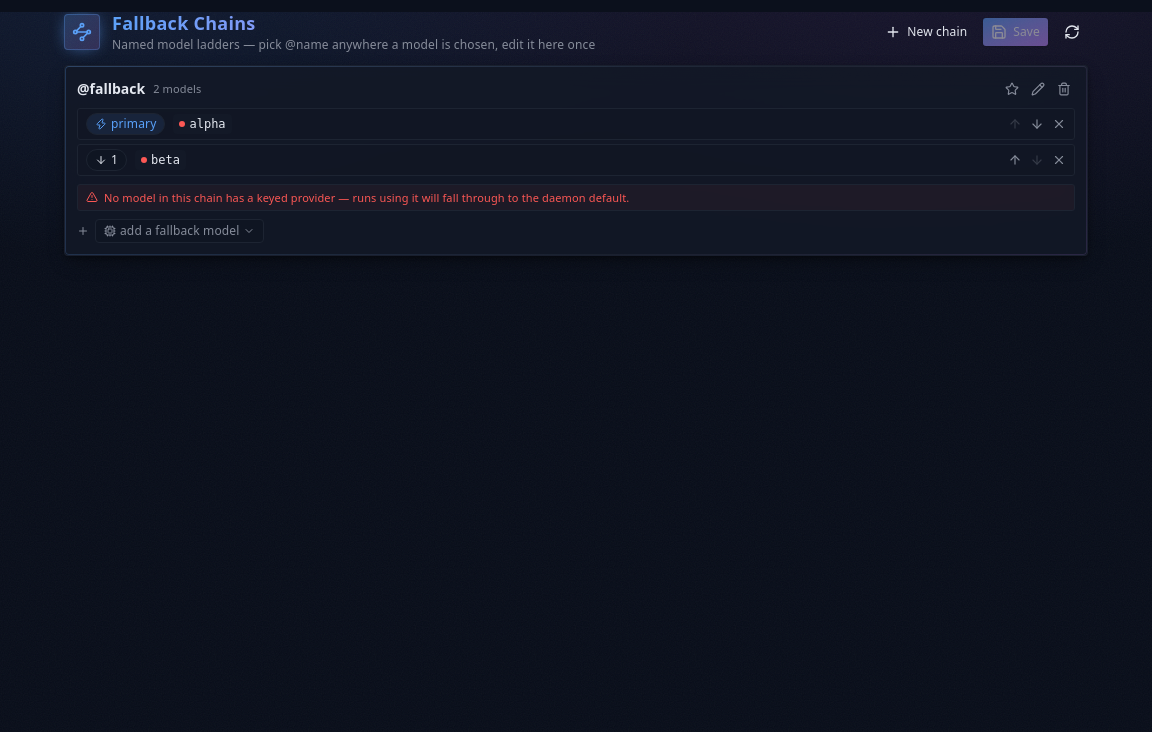
Scenario: Chains view › posts the whole chain set on save, then goes clean again
The width and height of the screenshot is (1152, 732).
Expected: the button titled "Save chains" is shown, [983, 18, 1048, 46]
Click the button titled "Move down" in the row of "primary" at (1037, 124), box [1030, 116, 1044, 130]
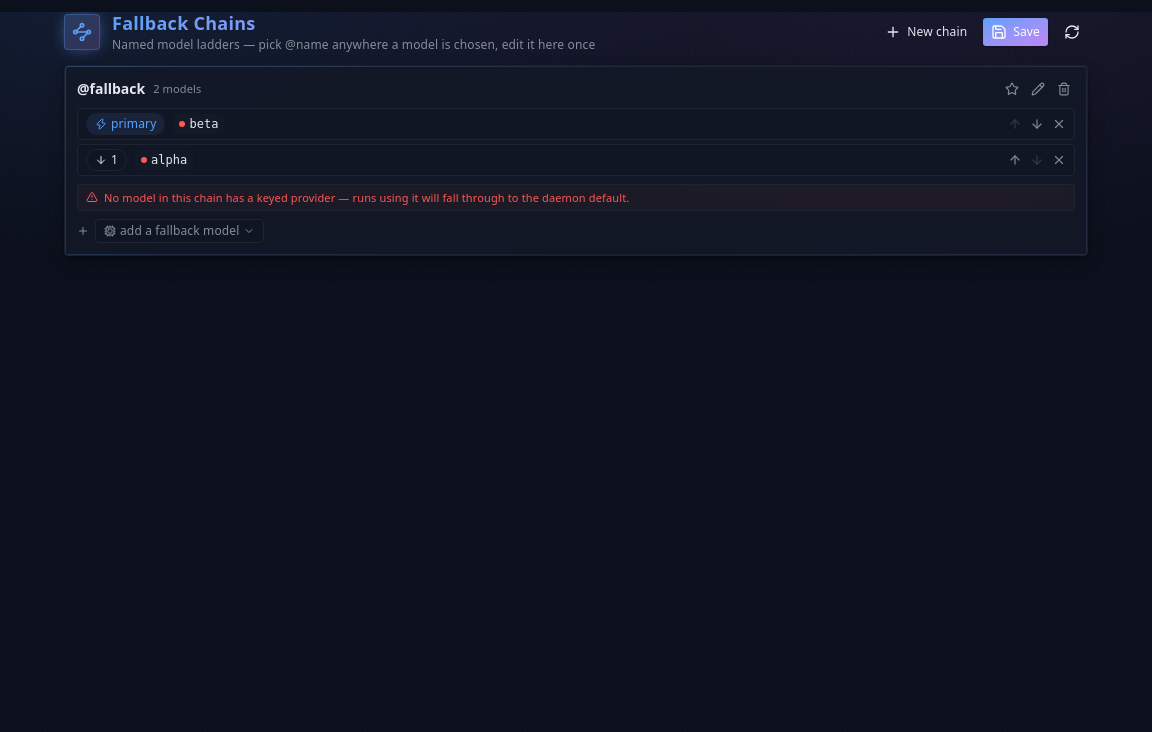
Click the button titled "Save chains" at (1016, 32), box [983, 18, 1048, 46]
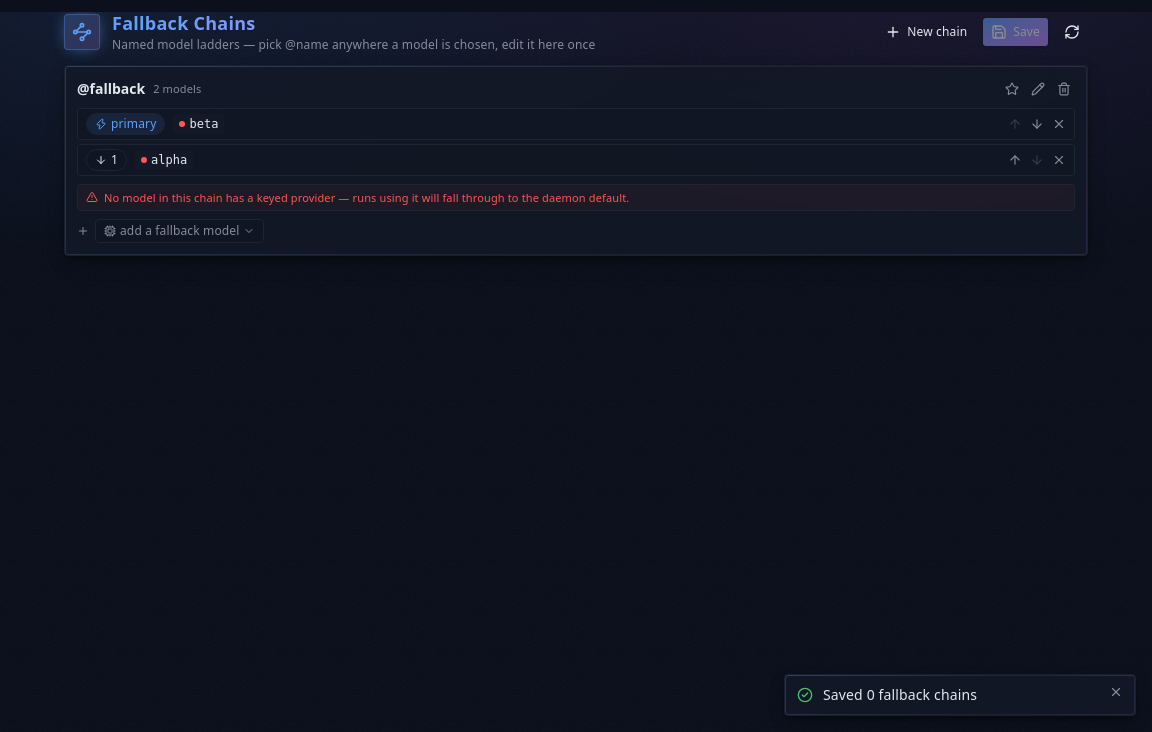
Expected: the button titled "Save chains" is disabled, [983, 18, 1048, 46]
